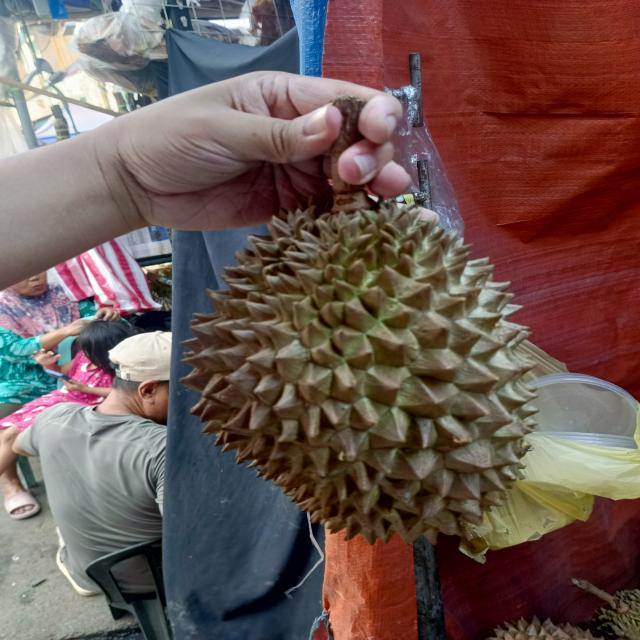mature: (178, 198, 536, 542)
